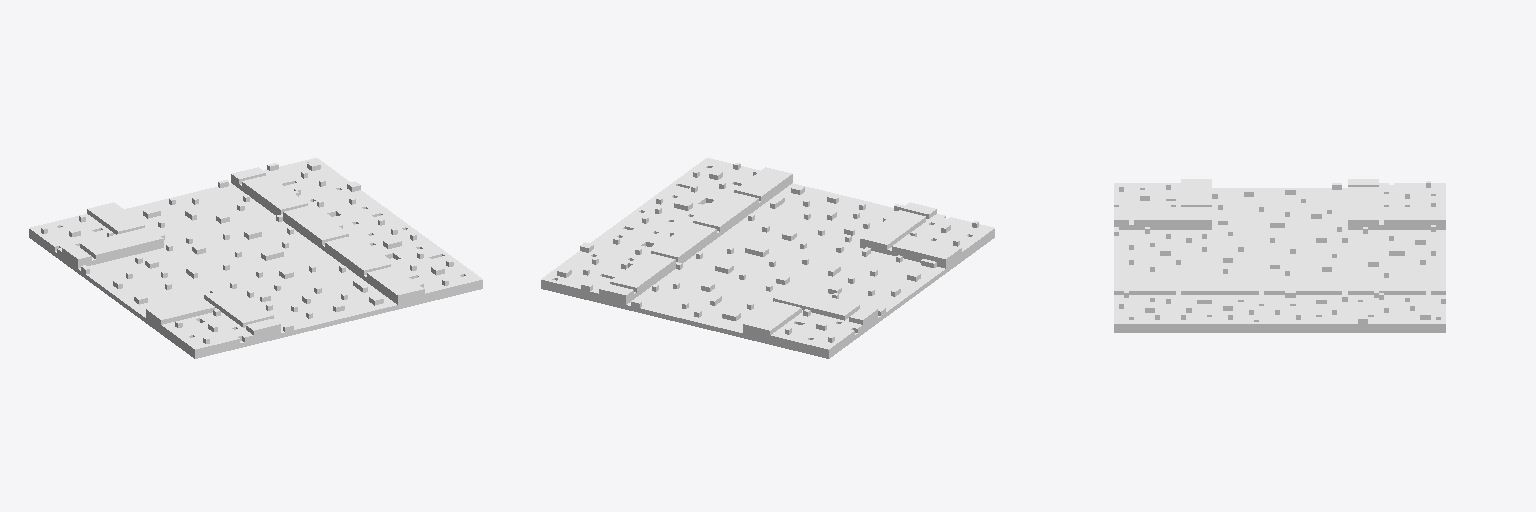
The model's file is EarthenPath3Fork_1.obj.
The picture shows the model from 3 angles: view 1: azimuth 30°, elevation 25°; view 2: azimuth 150°, elevation 25°; view 3: azimuth 270°, elevation 25°; orthographic projection.
Visible parts, largest first — view 1: EarthenPath3Fork_1; view 2: EarthenPath3Fork_1; view 3: EarthenPath3Fork_1.
Part boxes in pixels (x1,y1,x2,y2): EarthenPath3Fork_1: (29,158,482,358); EarthenPath3Fork_1: (541,158,994,358); EarthenPath3Fork_1: (1114,179,1445,332).
Bounding box in the file's own units: 1 × 0.0469 × 1.